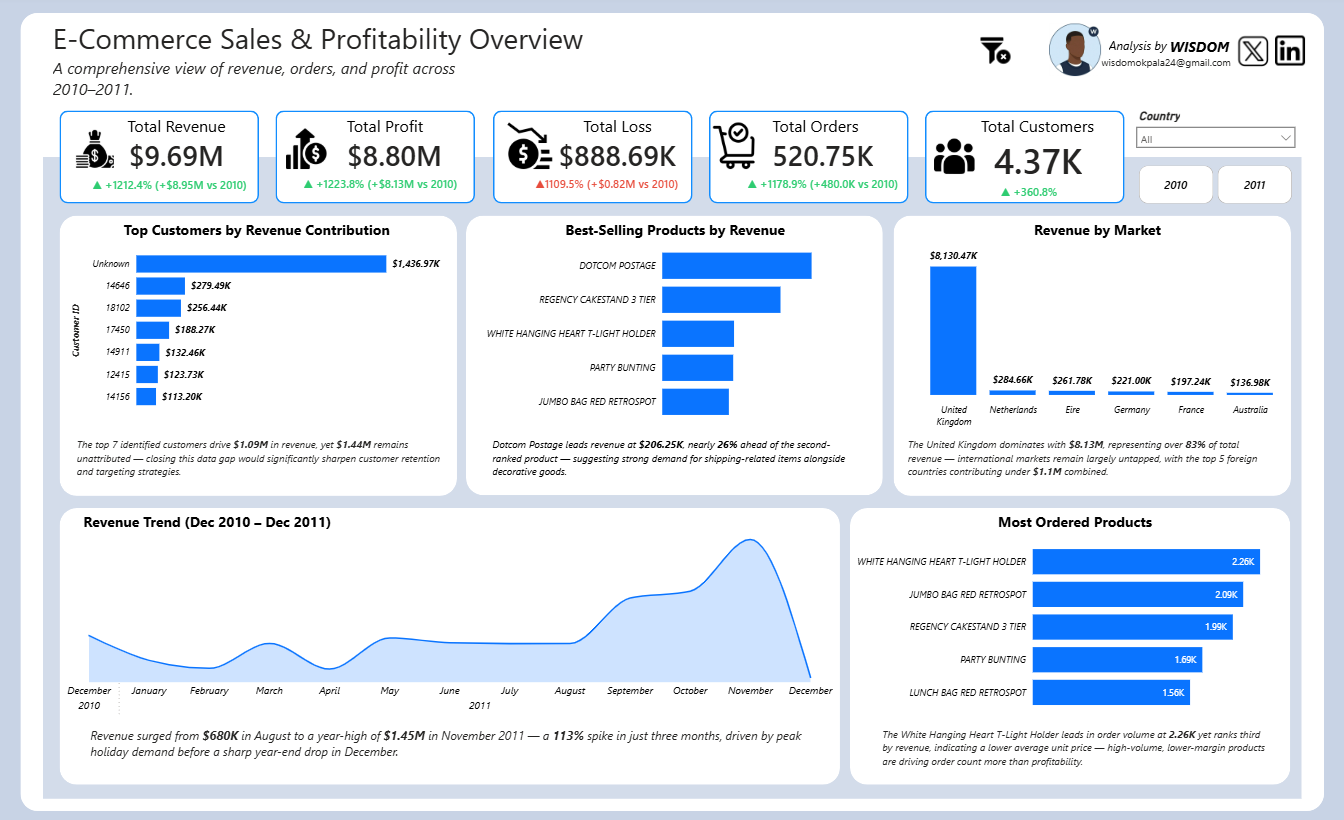

The dashboard page shown, as its layout file describes it:
{"tool":"powerbi","page":{"name":"Dashboard","canvas":[1900,1100],"ordinal":0},"visuals":[{"type":"shape","box":[81.9,24,1735.9,1062.7],"z":0},{"type":"textbox","box":[1526.2,49.9,95.9,45.9],"z":0,"group":"g1"},{"type":"textbox","box":[1604.1,49.9,95.9,45.9],"z":1000,"group":"g1"},{"type":"shape","box":[111.9,215.7,1676,855],"z":1000},{"type":"shape","box":[133.4,682.5,1039.5,368.7],"z":2000},{"type":"shape","box":[1186.6,682.5,586.4,368.7],"z":3000},{"type":"lineChart","fields":{"Category":["Date Table.Year","Date Table.Month"],"Y":["KPIs.Total Revenue"]},"box":[133.8,683.2,1038.8,285.7],"z":4000},{"type":"textbox","box":[133.8,683.2,393.5,47.9],"z":5000},{"type":"clusteredBarChart","fields":{"Category":["Online Retail Cleaned.Description"],"Y":["KPIs.Total Orders"]},"box":[1172.6,707.2,601.3,261.7],"z":6000},{"type":"textbox","box":[1336.4,683.2,299.6,53.9],"z":7000},{"type":"shape","box":[133.8,293.6,529.4,373.6],"z":8000},{"type":"shape","box":[674.7,294.2,555,372.6],"z":9000},{"type":"shape","box":[1244.5,293.6,529.4,373.6],"z":10000},{"type":"clusteredBarChart","fields":{"Category":["Online Retail Cleaned.Customer ID"],"Y":["KPIs.Total Revenue"]},"box":[145.8,321.6,507.4,241.7],"z":11000},{"type":"textbox","box":[211.7,293.6,369.6,55.9],"z":12000},{"type":"clusteredBarChart","fields":{"Category":["Online Retail Cleaned.Description"],"Y":["KPIs.Total Revenue"]},"box":[679.2,311.6,551.3,271.7],"z":13000},{"type":"textbox","box":[789.1,293.6,329.6,55.9],"z":14000},{"type":"clusteredColumnChart","fields":{"Category":["Online Retail Cleaned.Country"],"Y":["KPIs.Total Revenue"]},"box":[1244.5,321.6,543.4,261.7],"z":15000},{"type":"textbox","box":[1366.4,293.6,299.6,55.9],"z":16000},{"type":"advancedSlicerVisual","fields":{"Values":["Date Table.Year"]},"box":[1566.1,221.7,215.7,61.9],"z":17000},{"type":"shape","box":[133.8,153.8,265.7,123.9],"z":18000},{"type":"shape","box":[422,153.8,265.7,123.9],"z":19000},{"type":"shape","box":[710.2,153.8,265.7,123.9],"z":20000},{"type":"shape","box":[998.3,153.8,265.7,123.9],"z":21000},{"type":"shape","box":[1286.5,153.8,265.7,123.9],"z":22000},{"type":"slicer","fields":{"Values":["Online Retail Cleaned.Country"]},"box":[1557.6,146.1,231.5,65.2],"z":23000},{"type":"cardVisual","fields":{"Data":["KPIs.Total Revenue"]},"box":[181.8,165.8,215.7,91.9],"z":24000},{"type":"cardVisual","fields":{"Data":["KPIs.Total Revenue KPI Subtitle"]},"box":[139.8,221.7,281.7,59.9],"z":25000},{"type":"cardVisual","fields":{"Data":["KPIs.Total Profit"]},"box":[467.4,165.8,225.7,91],"z":26000},{"type":"cardVisual","fields":{"Data":["KPIs.Total Profit KPI Subtitle"]},"box":[417.5,221.7,287.7,55.9],"z":27000},{"type":"cardVisual","fields":{"Data":["KPIs.Total loss"]},"box":[761.1,165.8,231.7,91],"z":28000},{"type":"cardVisual","fields":{"Data":["KPIs.Total Loss KPI Subtitle"]},"box":[727.1,221.7,271.7,55.9],"z":29000},{"type":"cardVisual","fields":{"Data":["KPIs.Total Orders"]},"box":[1042.8,165.8,215.7,91],"z":30000},{"type":"cardVisual","fields":{"Data":["KPIs.Total Orders KPI Subtitle"]},"box":[1014.8,223.7,271.7,53.9],"z":31000},{"type":"cardVisual","fields":{"Data":["KPIs.Total Customers"]},"box":[1332.4,173.8,209.7,87.9],"z":32000},{"type":"cardVisual","fields":{"Data":["KPIs.Total Customers KPI Subtitle"]},"box":[1332.4,233.7,185.8,53.9],"z":33000},{"type":"image","box":[1448.3,38,75.9,69.9],"z":34000},{"type":"group","id":"g1","title":"Group 1","box":[1526.2,49.9,173.8,45.9],"z":35000},{"type":"textbox","box":[1516.2,73.9,193.8,32],"z":36000},{"type":"image","box":[1698,53.9,51.9,41.9],"z":37000},{"type":"image","box":[1733.9,53.9,77.9,40],"z":38000},{"type":"image","box":[125.8,177.8,109.9,53.9],"z":39000},{"type":"textbox","box":[139.8,153.8,299.6,45.9],"z":40000},{"type":"image","box":[407.5,177.8,109.9,53.9],"z":41000},{"type":"textbox","box":[417.5,153.8,299.6,45.9],"z":42000},{"type":"image","box":[705.2,169.8,109.9,61.9],"z":43000},{"type":"textbox","box":[727.1,153.8,299.6,45.9],"z":44000},{"type":"image","box":[976.8,169.8,109.9,61.9],"z":45000},{"type":"textbox","box":[990.8,153.8,299.6,45.9],"z":46000},{"type":"textbox","box":[1286.5,153.8,299.6,45.9],"z":47000},{"type":"image","box":[1270.5,187.8,109.9,53.9],"z":48000},{"type":"image","box":[1356.4,53.9,47.9,40],"z":49000},{"type":"textbox","box":[119.9,26,743.1,69.9],"z":50000},{"type":"textbox","box":[119.9,75.9,609.3,93.9],"z":51000},{"type":"textbox","box":[705.2,583.3,497.4,83.9],"z":52000},{"type":"textbox","box":[1258.5,583.3,491.4,83.9],"z":53000},{"type":"textbox","box":[1224.5,968.8,523.4,83.9],"z":54000},{"type":"textbox","box":[169.8,968.8,960.9,83.9],"z":55000},{"type":"textbox","box":[151.8,583.3,495.4,79.9],"z":56000}]}

Visuals, with their boxes on the page's 1900x1100 design canvas (x1, y1, x2, y2). These are canvas units, not pixel positions in the 1344x820 screenshot, which may show the page scaled, cropped or inside an application window:
shape: 82/24/1818/1087
textbox: 1526/50/1622/96
textbox: 1604/50/1700/96
shape: 112/216/1788/1071
shape: 133/682/1173/1051
shape: 1187/682/1773/1051
lineChart - Date Table.Year x Date Table.Month: 134/683/1173/969
textbox: 134/683/527/731
clusteredBarChart - Online Retail Cleaned.Description x KPIs.Total Orders: 1173/707/1774/969
textbox: 1336/683/1636/737
shape: 134/294/663/667
shape: 675/294/1230/667
shape: 1244/294/1774/667
clusteredBarChart - Online Retail Cleaned.Customer ID x KPIs.Total Revenue: 146/322/653/563
textbox: 212/294/581/350
clusteredBarChart - Online Retail Cleaned.Description x KPIs.Total Revenue: 679/312/1230/583
textbox: 789/294/1119/350
clusteredColumnChart - Online Retail Cleaned.Country x KPIs.Total Revenue: 1244/322/1788/583
textbox: 1366/294/1666/350
advancedSlicerVisual - Date Table.Year: 1566/222/1782/284
shape: 134/154/400/278
shape: 422/154/688/278
shape: 710/154/976/278
shape: 998/154/1264/278
shape: 1286/154/1552/278
slicer - Online Retail Cleaned.Country: 1558/146/1789/211
cardVisual - KPIs.Total Revenue: 182/166/398/258
cardVisual - KPIs.Total Revenue KPI Subtitle: 140/222/422/282
cardVisual - KPIs.Total Profit: 467/166/693/257
cardVisual - KPIs.Total Profit KPI Subtitle: 418/222/705/278
cardVisual - KPIs.Total loss: 761/166/993/257
cardVisual - KPIs.Total Loss KPI Subtitle: 727/222/999/278
cardVisual - KPIs.Total Orders: 1043/166/1258/257
cardVisual - KPIs.Total Orders KPI Subtitle: 1015/224/1286/278
cardVisual - KPIs.Total Customers: 1332/174/1542/262
cardVisual - KPIs.Total Customers KPI Subtitle: 1332/234/1518/288
image: 1448/38/1524/108
"Group 1" group: 1526/50/1700/96
textbox: 1516/74/1710/106
image: 1698/54/1750/96
image: 1734/54/1812/94
image: 126/178/236/232
textbox: 140/154/439/200
image: 408/178/517/232
textbox: 418/154/717/200
image: 705/170/815/232
textbox: 727/154/1027/200
image: 977/170/1087/232
textbox: 991/154/1290/200
textbox: 1286/154/1586/200
image: 1270/188/1380/242
image: 1356/54/1404/94
textbox: 120/26/863/96
textbox: 120/76/729/170
textbox: 705/583/1203/667
textbox: 1258/583/1750/667
textbox: 1224/969/1748/1053
textbox: 170/969/1131/1053
textbox: 152/583/647/663
